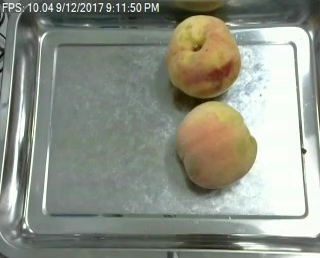Peach: (175, 99, 257, 189), (166, 13, 241, 98)
